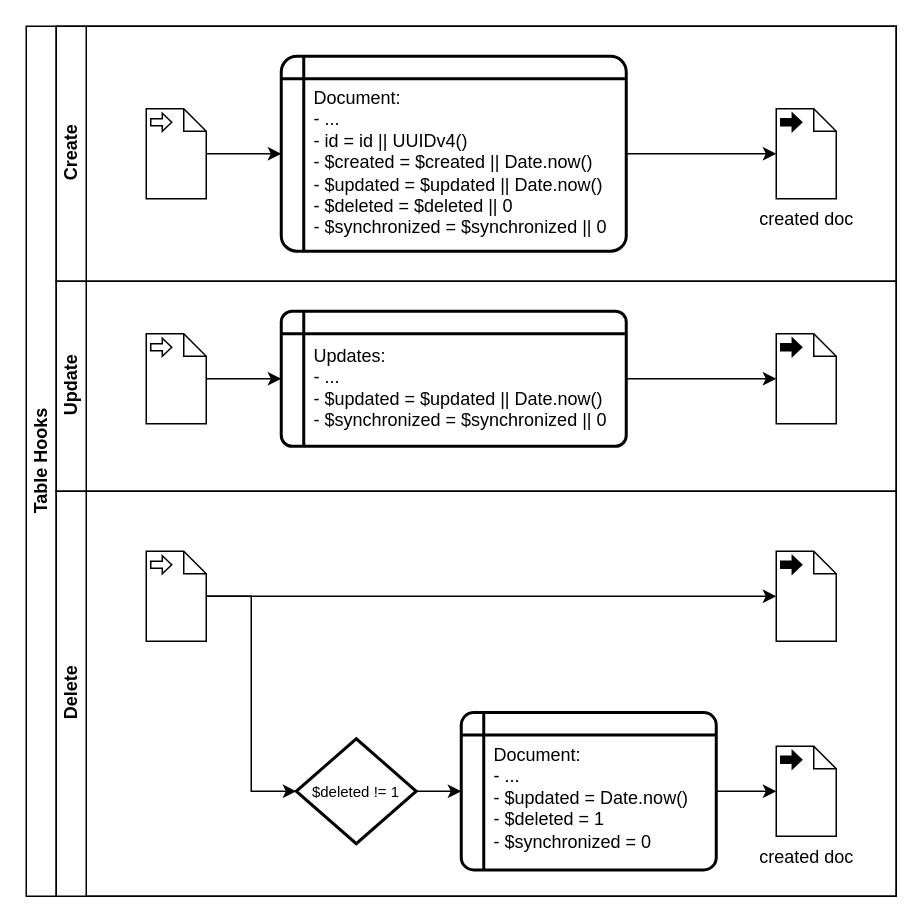
The diagram is 923 pixels wide and 923 high, and some of its shapes have lost their labels. The shapes that lost their labels are listed below. From the top down, each one's centre as x and y in pixels, then its label:
[175,153]: db.add()
[175,378]: db.update()
[805,378]: updated doc
[175,595]: db.delete()
[805,595]: deleted doc
